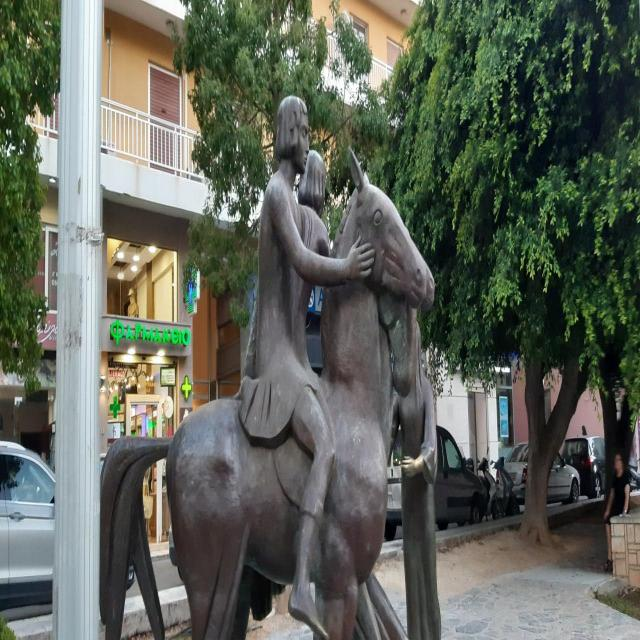Aretousa: (101, 4, 443, 640)
